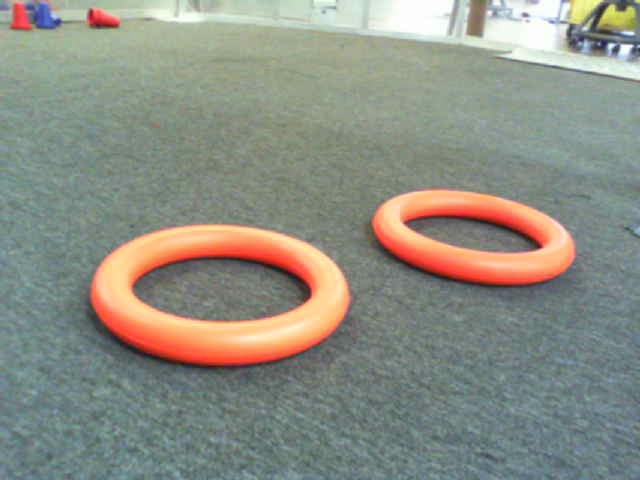Note: (95, 227, 358, 371), (375, 191, 584, 295)
